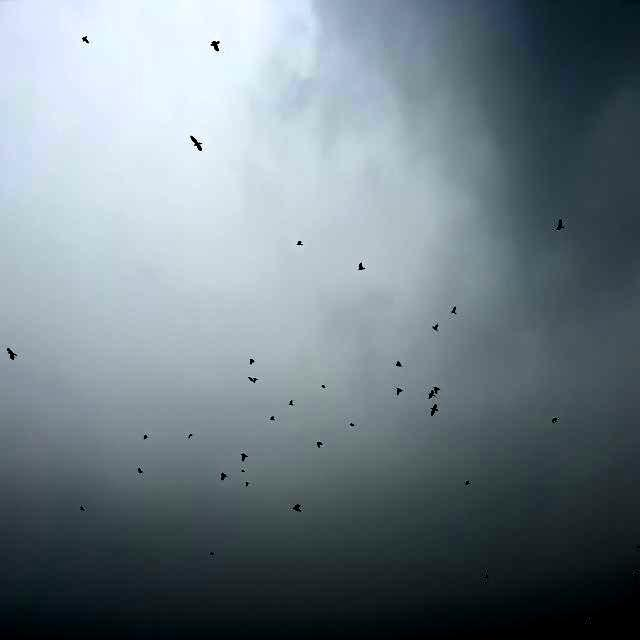bird: (546, 210, 568, 242), (135, 422, 157, 450), (1, 344, 22, 370), (190, 127, 208, 156), (207, 34, 225, 63), (388, 354, 412, 375), (352, 250, 368, 278), (282, 392, 302, 412), (243, 352, 264, 370), (215, 468, 234, 487), (262, 412, 282, 430), (391, 382, 410, 400), (134, 460, 150, 481), (316, 378, 333, 397), (289, 498, 306, 516), (289, 235, 309, 250), (460, 475, 477, 492), (183, 429, 200, 446), (80, 33, 96, 51), (74, 500, 92, 516), (246, 372, 264, 387), (236, 448, 252, 464), (447, 300, 462, 316), (430, 322, 442, 340), (315, 438, 330, 452), (550, 412, 563, 428), (208, 546, 222, 560), (430, 404, 439, 424), (348, 418, 358, 432), (432, 384, 442, 396), (244, 477, 252, 492), (238, 468, 248, 476), (426, 391, 434, 398)
